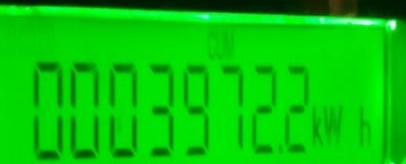.: (309, 105, 374, 149)
0: (277, 144, 283, 153)
1: (104, 62, 143, 158), (30, 62, 64, 160), (70, 63, 102, 160)
3: (249, 64, 279, 154), (282, 66, 311, 154)
4: (145, 63, 176, 154)
8: (217, 61, 249, 152)
:: (180, 63, 212, 154)
